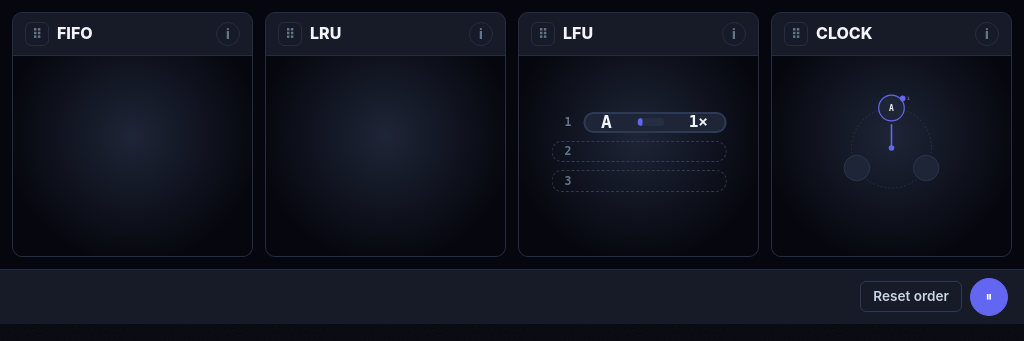
Test: RevisionView › the toggle and Space pause and resume the loop
This screenshot has width=1024, height=341.
Click the button named "Pause loop": [989, 297] box [970, 278, 1008, 316]
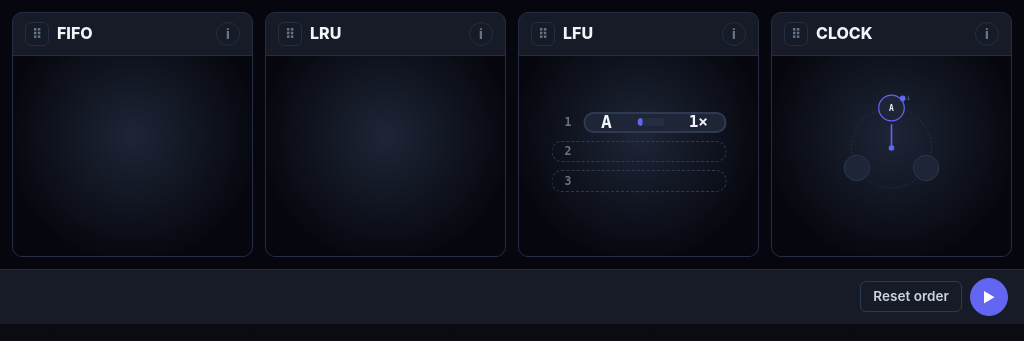
Result: the button named "Play loop" is shown at [970, 278, 1008, 316]
Press Space
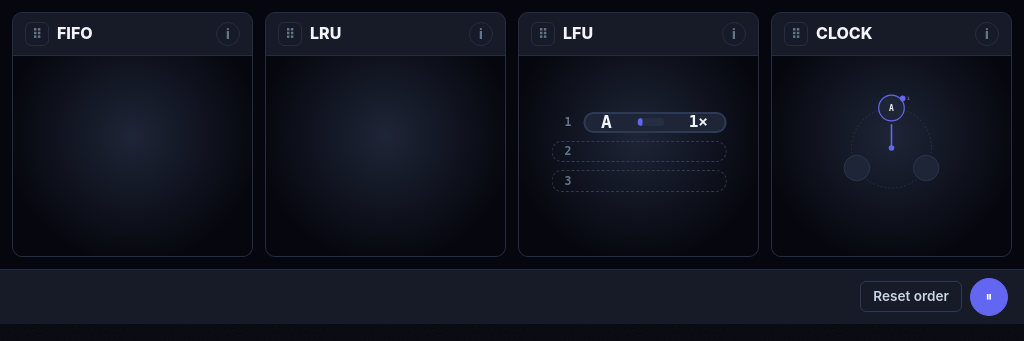
Result: the button named "Pause loop" is shown at [970, 278, 1008, 316]
